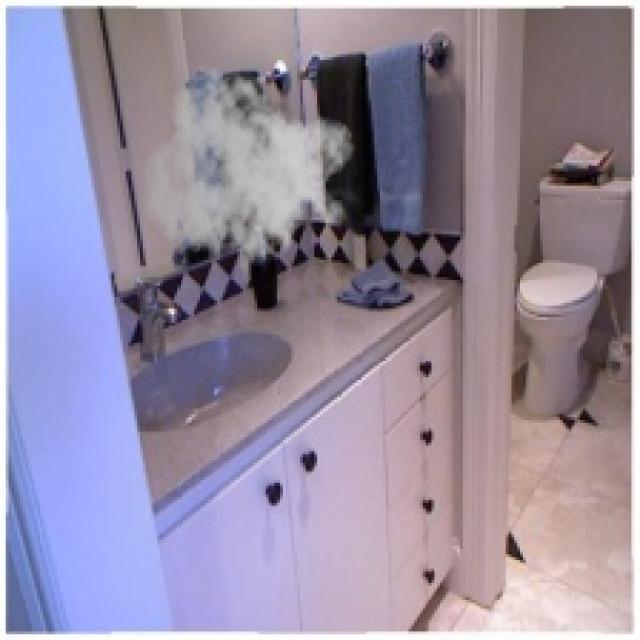smoke: (140, 65, 354, 288)
